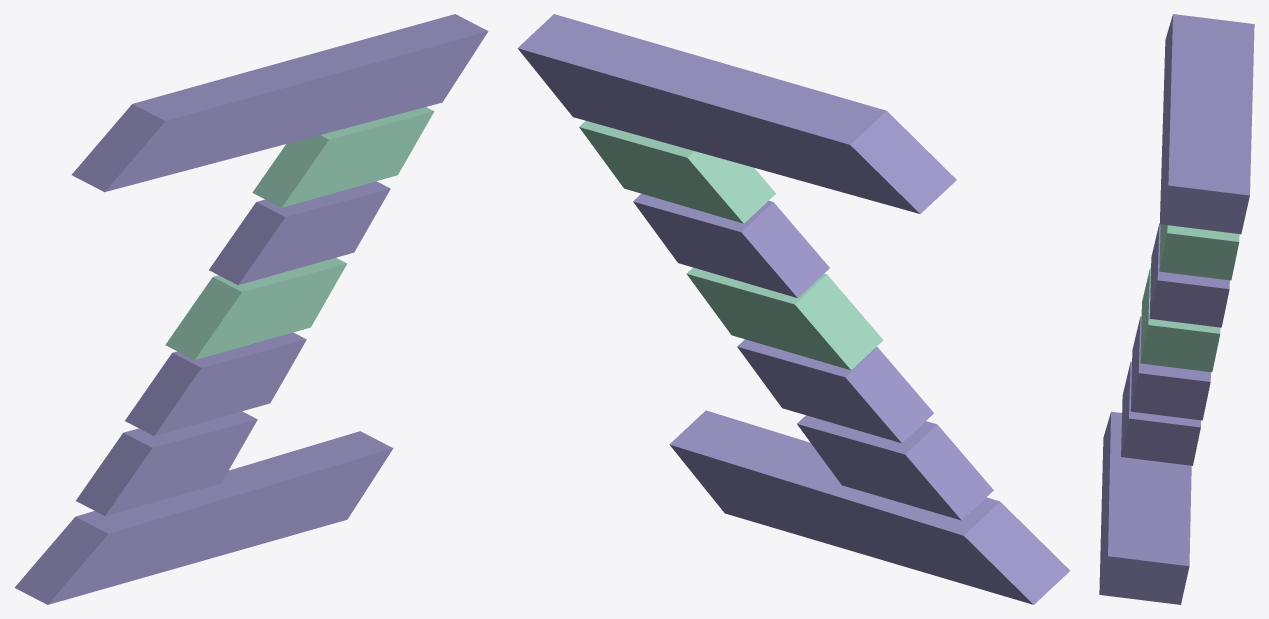
Rendered from Z-gltfeditor.gltf.
The picture shows the model from 3 angles, left to right: view 1: azimuth 30°, elevation 25°; view 2: azimuth 150°, elevation 25°; view 3: azimuth 270°, elevation 25°; orthographic projection. The views are drawn at different scales.
Visible parts, largest first — view 1: Rectangle_4, Rectangle_5, Rectangle_11, Rectangle_7, Rectangle_10, Rectangle_9, Rectangle_8; view 2: Rectangle_4, Rectangle_5, Rectangle_11, Rectangle_7, Rectangle_10, Rectangle_9, Rectangle_8; view 3: Rectangle_4, Rectangle_5, Rectangle_10, Rectangle_7, Rectangle_11, Rectangle_9, Rectangle_8.
Boxes of the visible parts, x1=… form: Rectangle_4: x1=72, y1=14, x2=488, y2=192; Rectangle_5: x1=14, y1=431, x2=393, y2=604; Rectangle_11: x1=76, y1=411, x2=257, y2=515; Rectangle_7: x1=209, y1=181, x2=390, y2=285; Rectangle_10: x1=125, y1=332, x2=306, y2=435; Rectangle_9: x1=165, y1=258, x2=347, y2=360; Rectangle_8: x1=252, y1=107, x2=434, y2=207; Rectangle_4: x1=517, y1=14, x2=956, y2=213; Rectangle_5: x1=669, y1=410, x2=1070, y2=604; Rectangle_11: x1=797, y1=415, x2=993, y2=520; Rectangle_7: x1=633, y1=193, x2=829, y2=297; Rectangle_10: x1=737, y1=339, x2=933, y2=443; Rectangle_9: x1=686, y1=267, x2=883, y2=370; Rectangle_8: x1=579, y1=121, x2=775, y2=223; Rectangle_4: x1=1159, y1=14, x2=1254, y2=234; Rectangle_5: x1=1099, y1=411, x2=1191, y2=604; Rectangle_10: x1=1130, y1=316, x2=1210, y2=420; Rectangle_7: x1=1149, y1=223, x2=1229, y2=327; Rectangle_11: x1=1121, y1=361, x2=1200, y2=465; Rectangle_9: x1=1140, y1=268, x2=1220, y2=372; Rectangle_8: x1=1159, y1=224, x2=1239, y2=280.
Bounding box in the file's own units: 2.52 × 2.29 × 0.6039.
